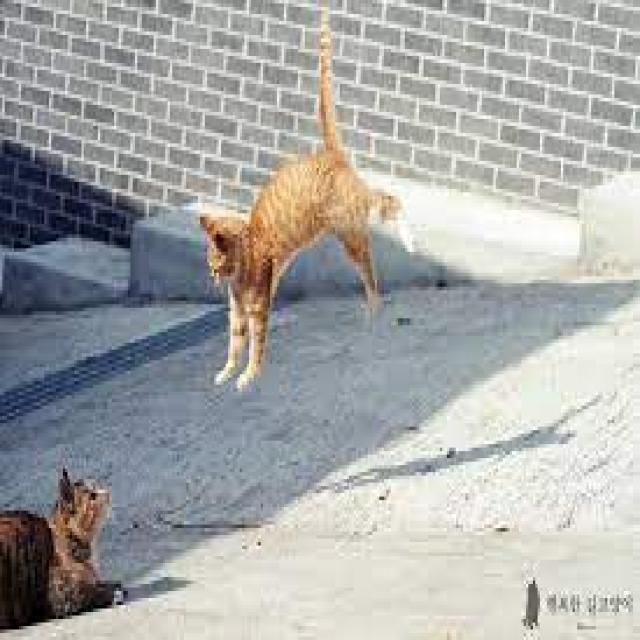cat: (136, 25, 422, 381), (2, 420, 154, 618)
